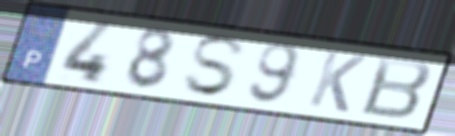4: (58, 18, 122, 85)
8: (125, 26, 180, 91)
9: (247, 42, 303, 105)
B: (357, 54, 436, 122)
K: (305, 47, 370, 115)
S: (180, 33, 249, 99)
